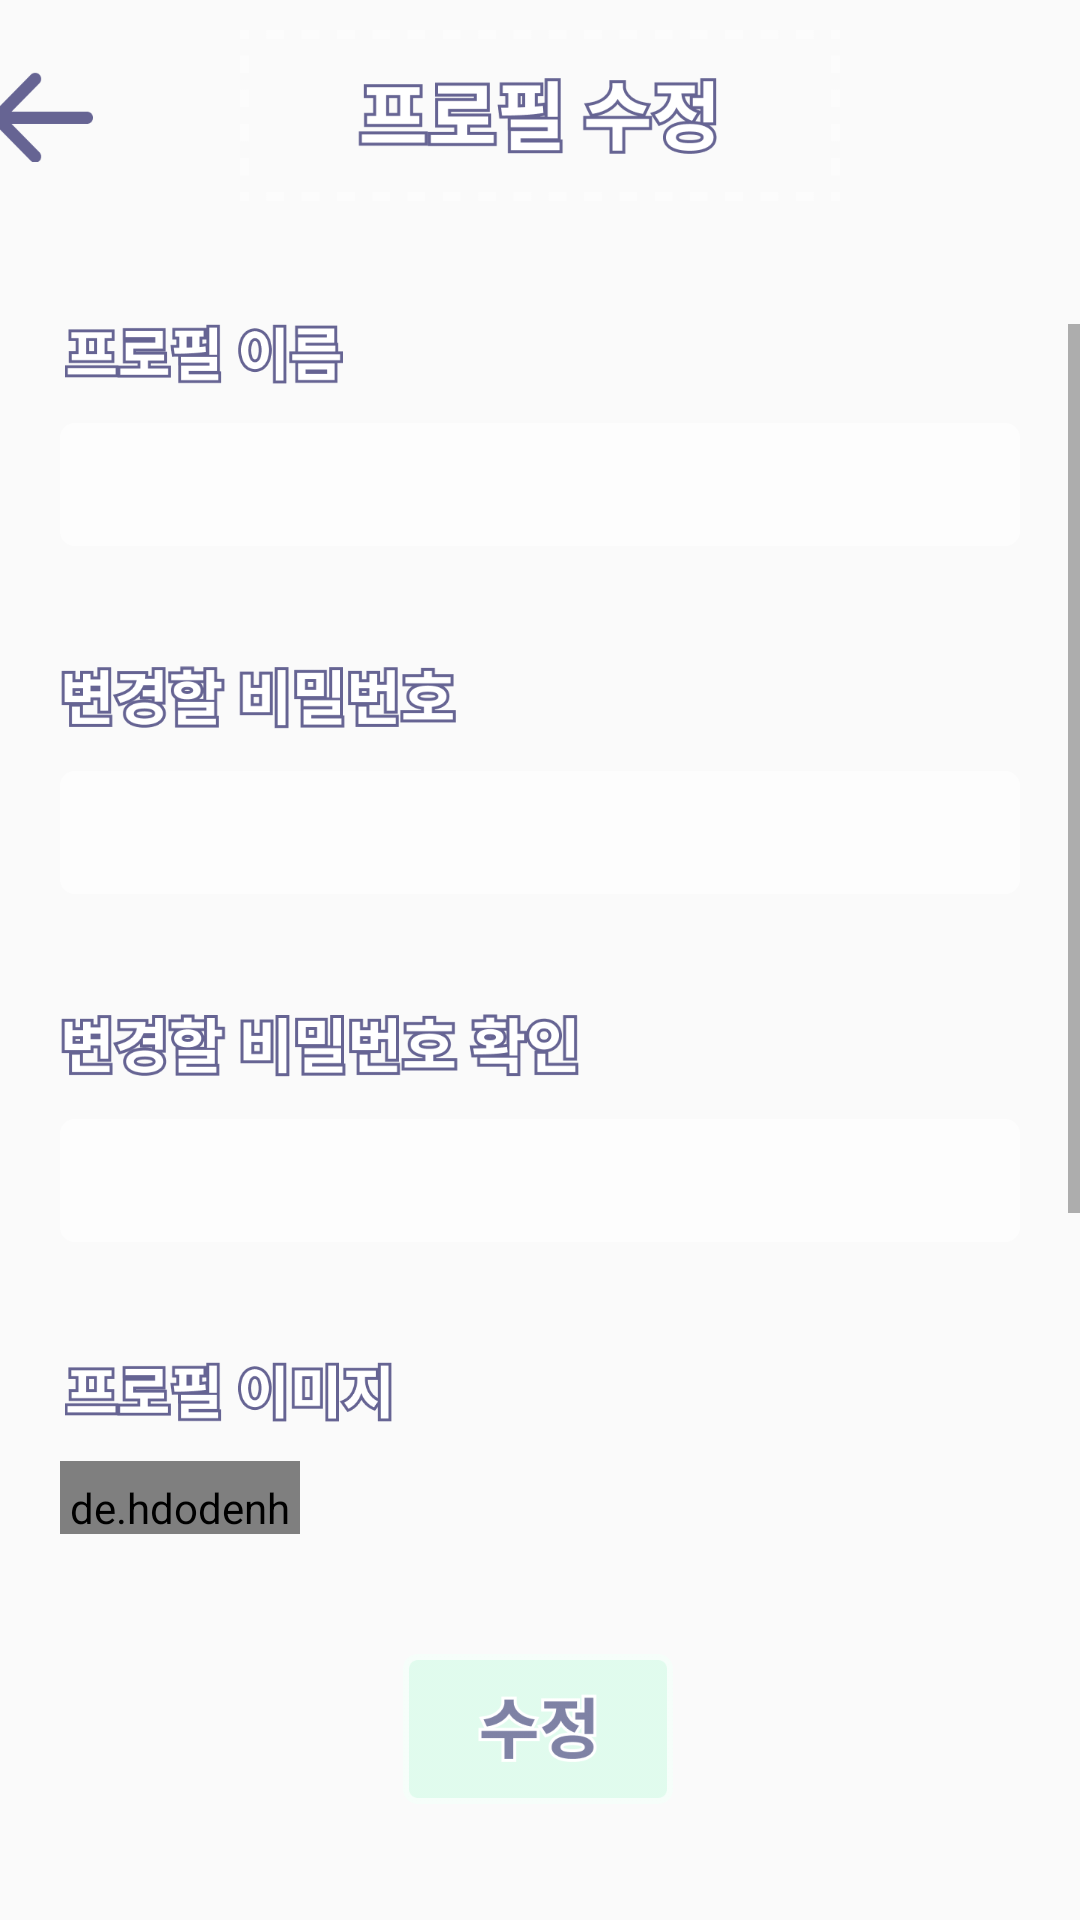

Icon bounding boxes for this 1080 x 1920 phone screenshot, format (x1, y1, x2, y2):
add changeprofile btnback: (0, 73, 93, 162)
